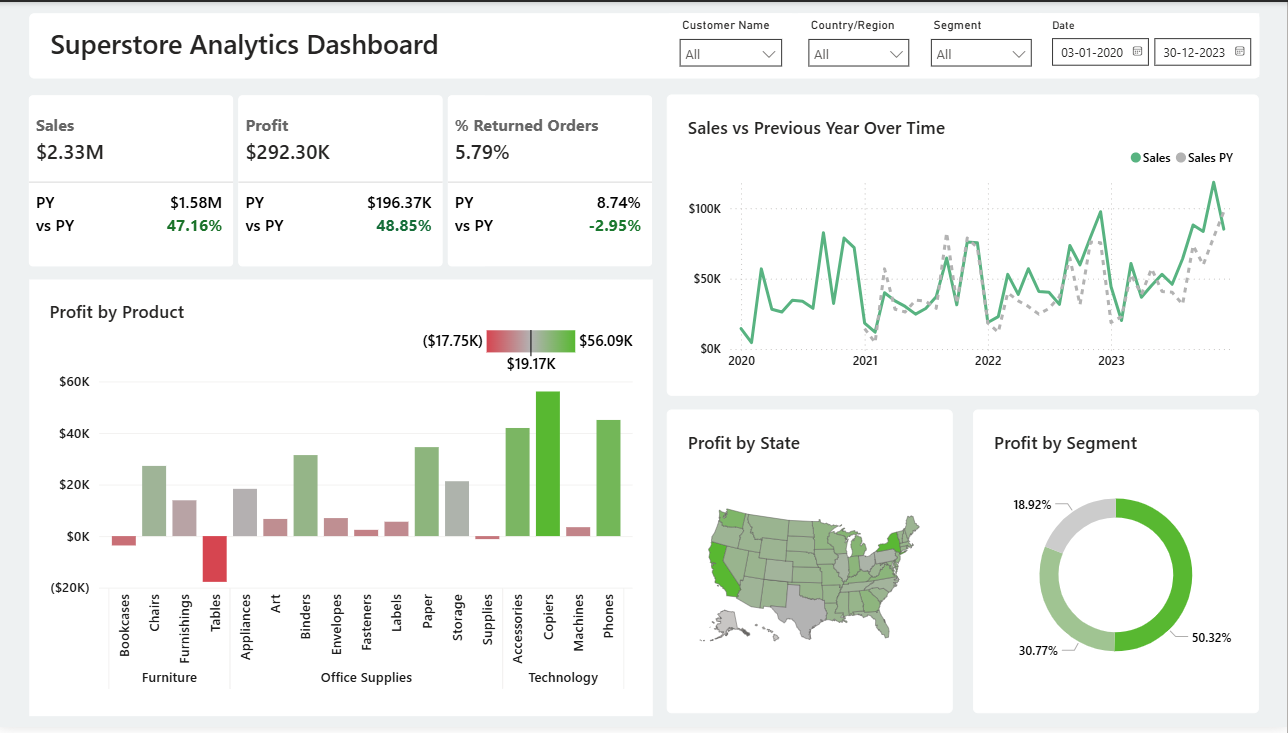

The dashboard page shown, as its layout file describes it:
{"tool":"powerbi","page":{"name":"Page 1","canvas":[1280,720],"ordinal":0},"visuals":[{"type":"slicer","fields":{"Values":["Orders.Customer Name"]},"box":[666.6,11.2,121.6,57.1],"z":0,"group":"g1"},{"type":"cardVisual","fields":{"Data":["Key Measures.Sales","Key Measures.Profit","Key Measures.% Returned Orders"]},"box":[13.7,75.7,654.2,204.8],"z":0},{"type":"textbox","box":[31,11.2,1221.4,64.5],"z":1000},{"type":"group","id":"g1","title":"slicer panel","box":[666.6,11.2,585.9,63.3],"z":1000,"group":"g2"},{"type":"slicer","fields":{"Values":["Orders.Country/Region"]},"box":[794.5,11.2,120.4,58.3],"z":1000,"group":"g1"},{"type":"slicer","fields":{"Values":["Orders.Segment"]},"box":[916.1,11.2,120.4,60.8],"z":2000,"group":"g1"},{"type":"lineChart","title":"Sales vs Previous Year Over Time","fields":{"Category":["Date Table.Start of month"],"Y":["Key Measures.Sales","Key Measures.Sales PY"]},"box":[664.1,91.9,588.4,299.2],"z":2000},{"type":"slicer","fields":{"Values":["Date Table.Date"]},"box":[1034,11.2,218.5,63.3],"z":3000,"group":"g1"},{"type":"columnChart","title":"Profit by Product","fields":{"Category":["Orders.Category","Orders.Sub-Category"],"Y":["Key Measures.Profit"]},"box":[31,275.6,619.4,433.2],"z":3000},{"type":"shapeMap","title":"Profit by State","fields":{"Category":["Orders.State/Province"],"Value":["Key Measures.Profit"]},"box":[664.2,404.8,284,301.9],"z":4000},{"type":"donutChart","title":"Profit by Segment","fields":{"Category":["Orders.Segment"],"Y":["Key Measures.Sales"]},"box":[968.8,404.8,284,301.9],"z":5000},{"type":"group","id":"g2","title":"Group 1","box":[666.6,11.2,585.9,63.3],"z":5001}]}

Visuals, with their boxes in screenshot pixels (x1, y1, x2, y2), scaled from the page's 1280x720 canvas onto the 1288x733 screenshot:
slicer - Orders.Customer Name: bbox=[671, 11, 793, 70]
cardVisual - Key Measures.Sales x Key Measures.Profit: bbox=[14, 77, 672, 286]
textbox: bbox=[31, 11, 1260, 77]
"slicer panel" group: bbox=[671, 11, 1260, 76]
slicer - Orders.Country/Region: bbox=[799, 11, 921, 71]
slicer - Orders.Segment: bbox=[922, 11, 1043, 73]
"Sales vs Previous Year Over Time" lineChart: bbox=[668, 94, 1260, 398]
slicer - Date Table.Date: bbox=[1040, 11, 1260, 76]
"Profit by Product" columnChart: bbox=[31, 281, 654, 722]
"Profit by State" shapeMap: bbox=[668, 412, 954, 719]
"Profit by Segment" donutChart: bbox=[975, 412, 1261, 719]
"Group 1" group: bbox=[671, 11, 1260, 76]
